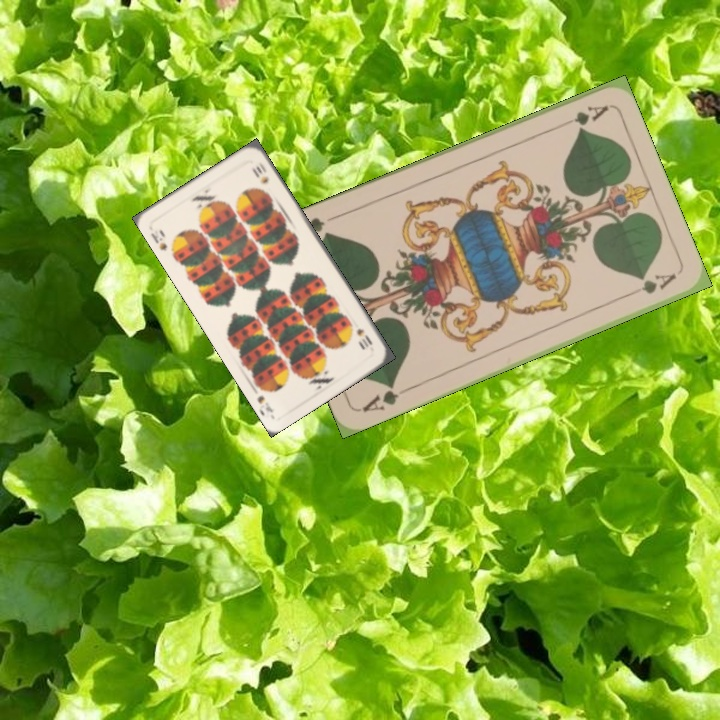GA: (358, 379, 413, 415), (554, 101, 611, 131)
S10: (147, 229, 170, 254), (353, 324, 375, 350)
